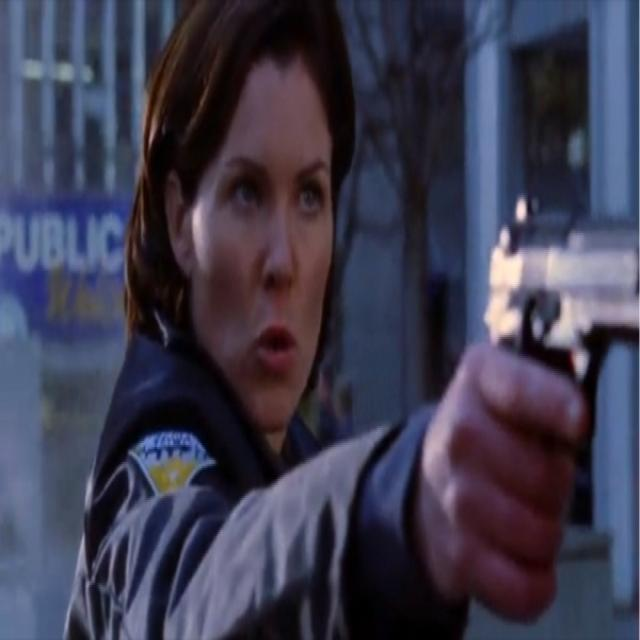weapons: (455, 174, 639, 476)
